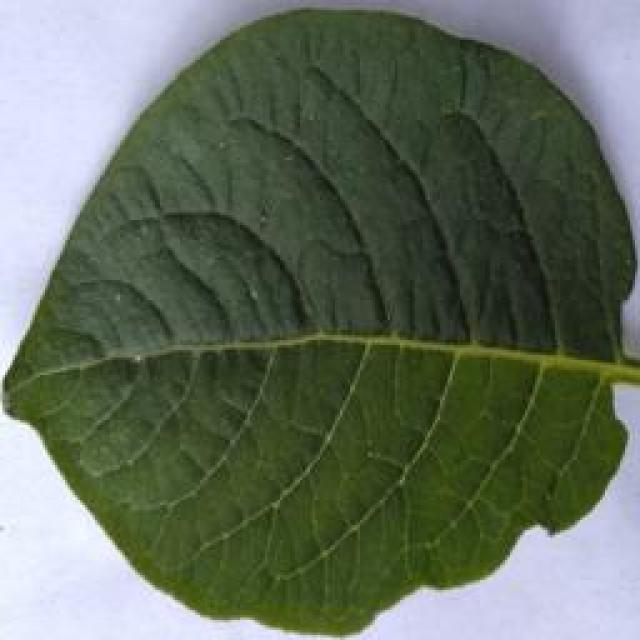Potato_Healthy: (3, 10, 624, 632)
